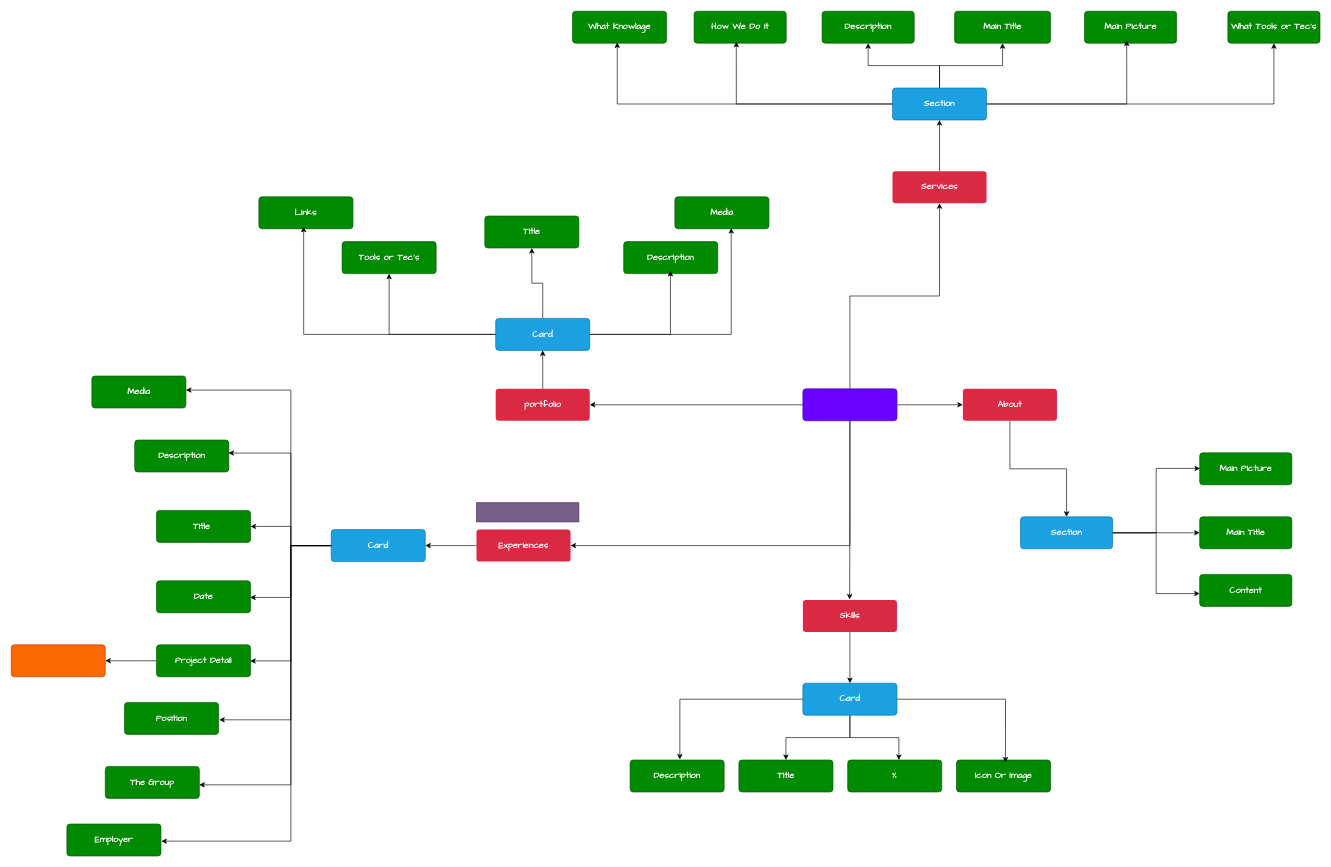
Some shapes in this 1331 by 867 pixel diagram are drawn without their labels. Here are the shapes that lost their labels. From the top down, the centre of each, then its label:
the point at 849,404: Table Model
the point at 527,512: Maybe Only For Persons
the point at 58,660: CHANGE
